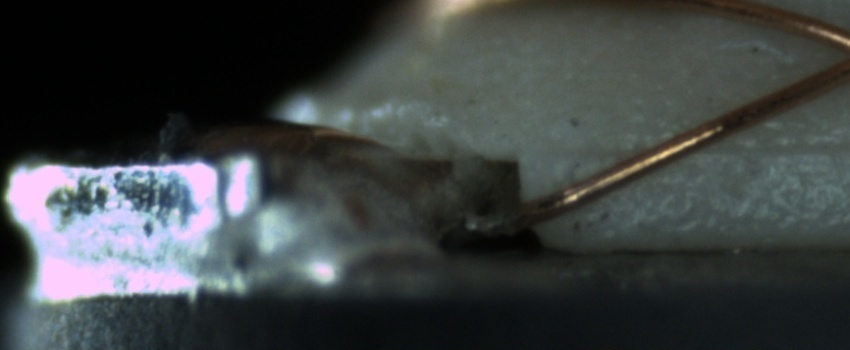CL: (808, 21, 850, 92)
DL: (569, 116, 846, 178)
